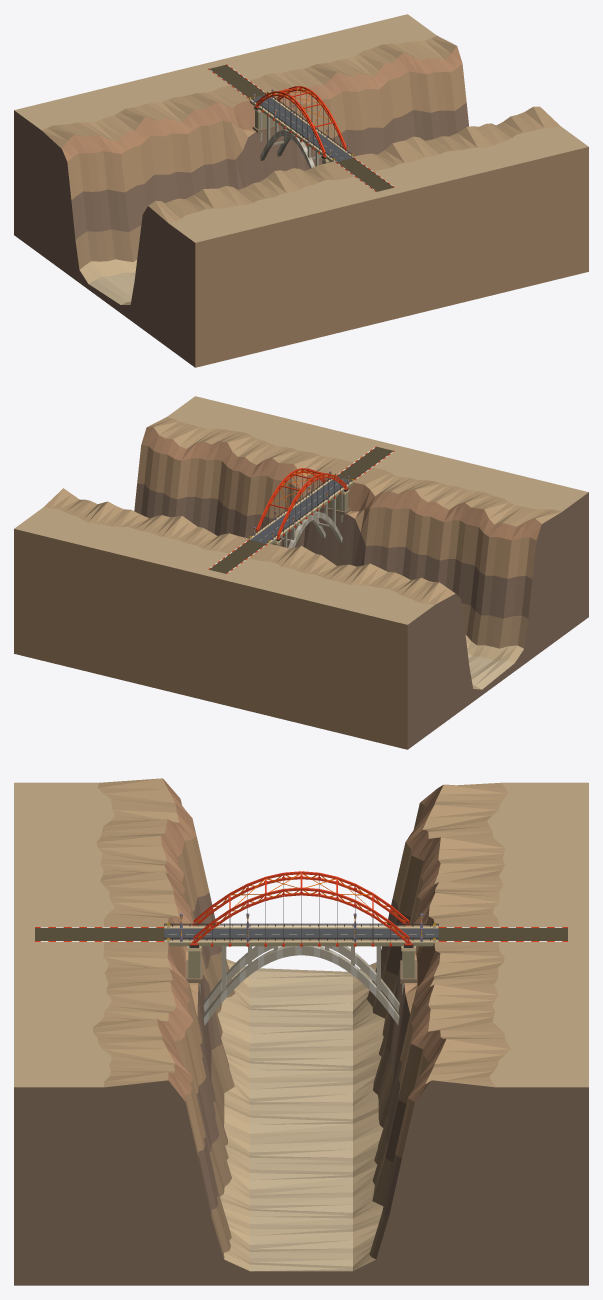
File: 嶙峋峡谷与朱红大桥.glb
3 renders of one model, top to bottom at view 1: azimuth 30°, elevation 25°; view 2: azimuth 150°, elevation 25°; view 3: azimuth 270°, elevation 25°, orthographic. The views are drawn at different scales.
Visible parts, largest first — view 1: Stratified canyon, Deck, South arch, North Road, South Road, Segmented concrete arch ribs, North arch; view 2: Stratified canyon, Deck, South arch, South Road, North Road, Segmented concrete arch ribs, North arch; view 3: Stratified canyon, Deck, Segmented concrete arch ribs, North arch, South arch, South Road, North Road, Foundations, Spandrel columns and crossbeams.
Part boxes in pixels (x1,y1,x2,y2): Stratified canyon: (14, 14, 588, 367); Deck: (248, 92, 354, 162); South arch: (256, 91, 325, 156); North Road: (336, 158, 393, 191); South Road: (209, 65, 266, 97); Segmented concrete arch ribs: (260, 129, 314, 168); North arch: (277, 86, 346, 150); Stratified canyon: (14, 396, 588, 749); Deck: (248, 474, 354, 544); South arch: (277, 473, 346, 538); South Road: (209, 540, 266, 573); North Road: (336, 447, 393, 479); Segmented concrete arch ribs: (288, 511, 342, 548); North arch: (256, 468, 325, 532); Stratified canyon: (14, 778, 588, 1285); Deck: (164, 923, 438, 946); Segmented concrete arch ribs: (203, 946, 399, 1025); North arch: (192, 887, 410, 946); South arch: (192, 871, 410, 926); South Road: (438, 928, 567, 940); North Road: (35, 928, 164, 940); Foundations: (186, 943, 416, 983); Spandrel columns and crossbeams: (199, 945, 403, 995).
Size of the model in its own units: 168 by 65.14 by 134.
